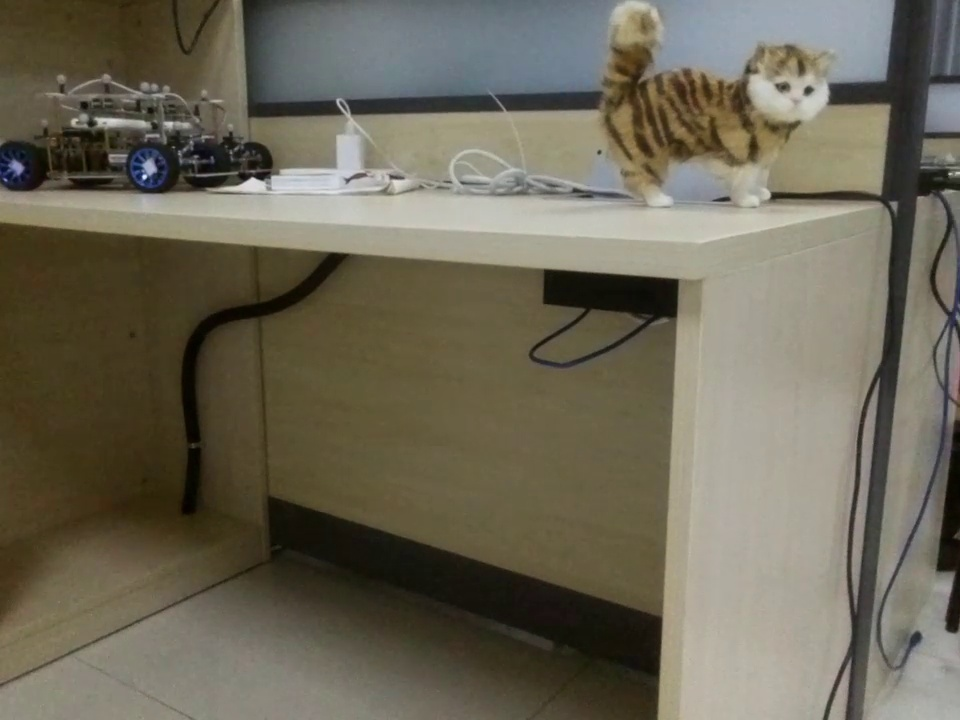cat: (576, 3, 852, 222)
